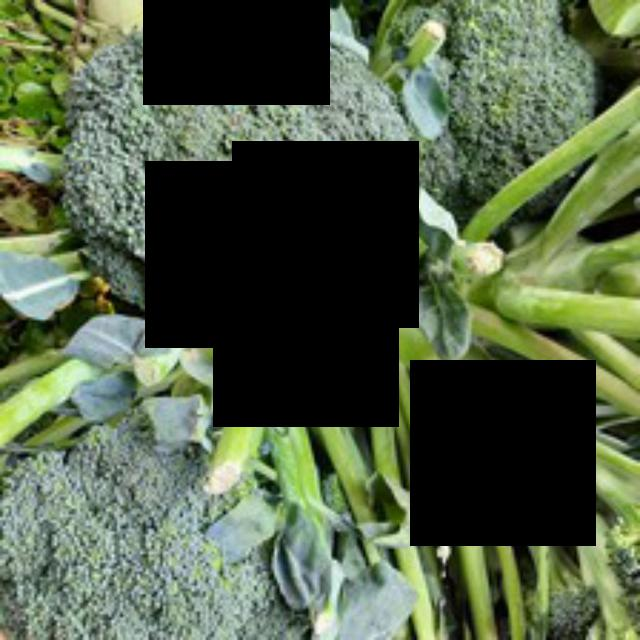broccoli: (68, 3, 401, 329)
